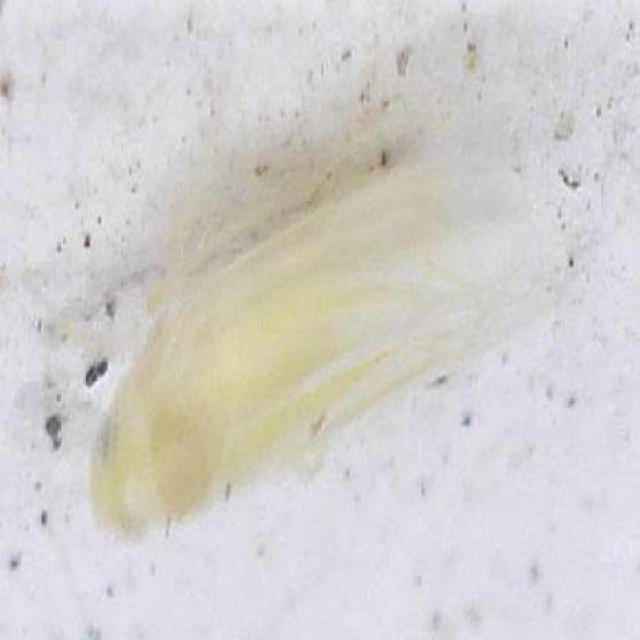green-leafhopper: (90, 135, 552, 543)
